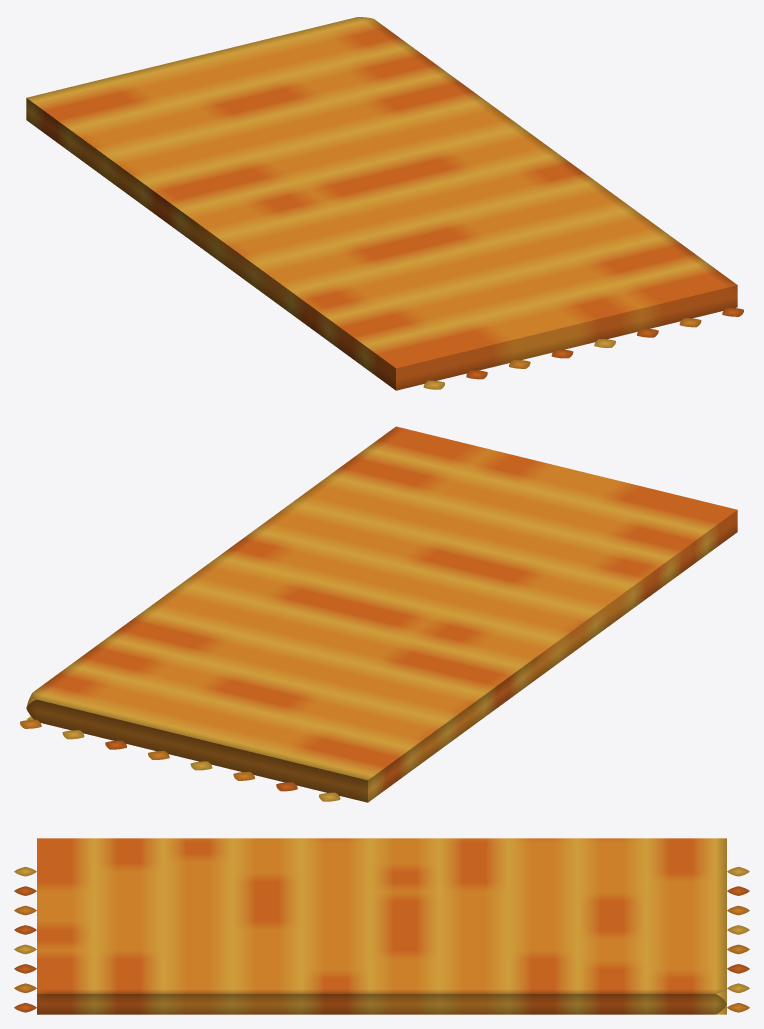
Rendered from carpet_171.obj.
3 views of the same model, one above another, from view 1: azimuth 30°, elevation 25°; view 2: azimuth 150°, elevation 25°; view 3: azimuth 270°, elevation 25° (orthographic). The views are drawn at different scales.
Size of the model in its own units: 1 by 0.0625 by 2.
1 material, 1 textured.
